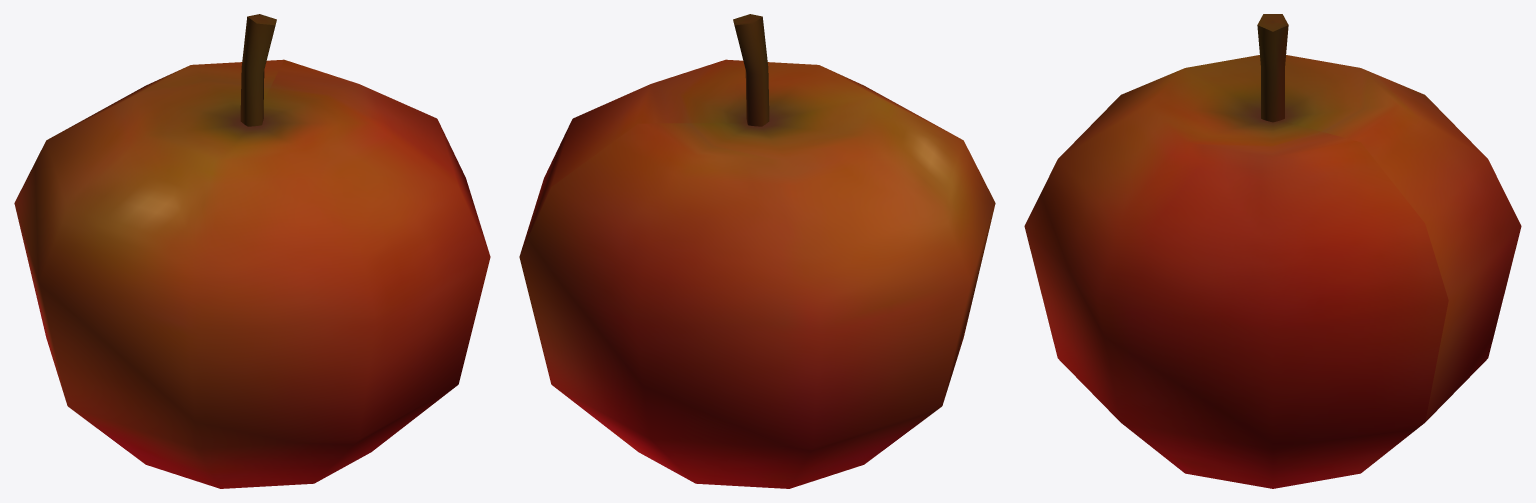
Rendered from apple.glb.
3 renders of one model, left to right at view 1: azimuth 30°, elevation 25°; view 2: azimuth 150°, elevation 25°; view 3: azimuth 270°, elevation 25°, orthographic.
Parts seen in each view (by area): view 1: appleBody, appleStalk; view 2: appleBody, appleStalk; view 3: appleBody, appleStalk.
Boxes of the visible parts, x1,y1,x2,y2 form: appleBody: (14, 59, 490, 488); appleStalk: (240, 14, 276, 126); appleBody: (519, 59, 995, 488); appleStalk: (733, 14, 769, 126); appleBody: (1024, 55, 1521, 488); appleStalk: (1257, 14, 1288, 122).
Size of the model in its own units: 1.99 by 1.87 by 1.99.
2 materials, 2 textured.
